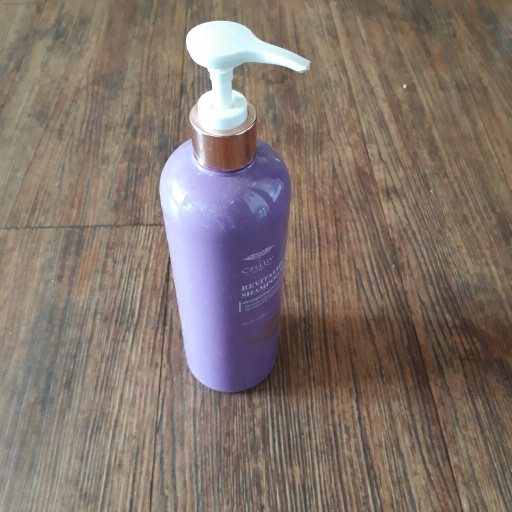Plastic_3: (157, 20, 313, 393)
